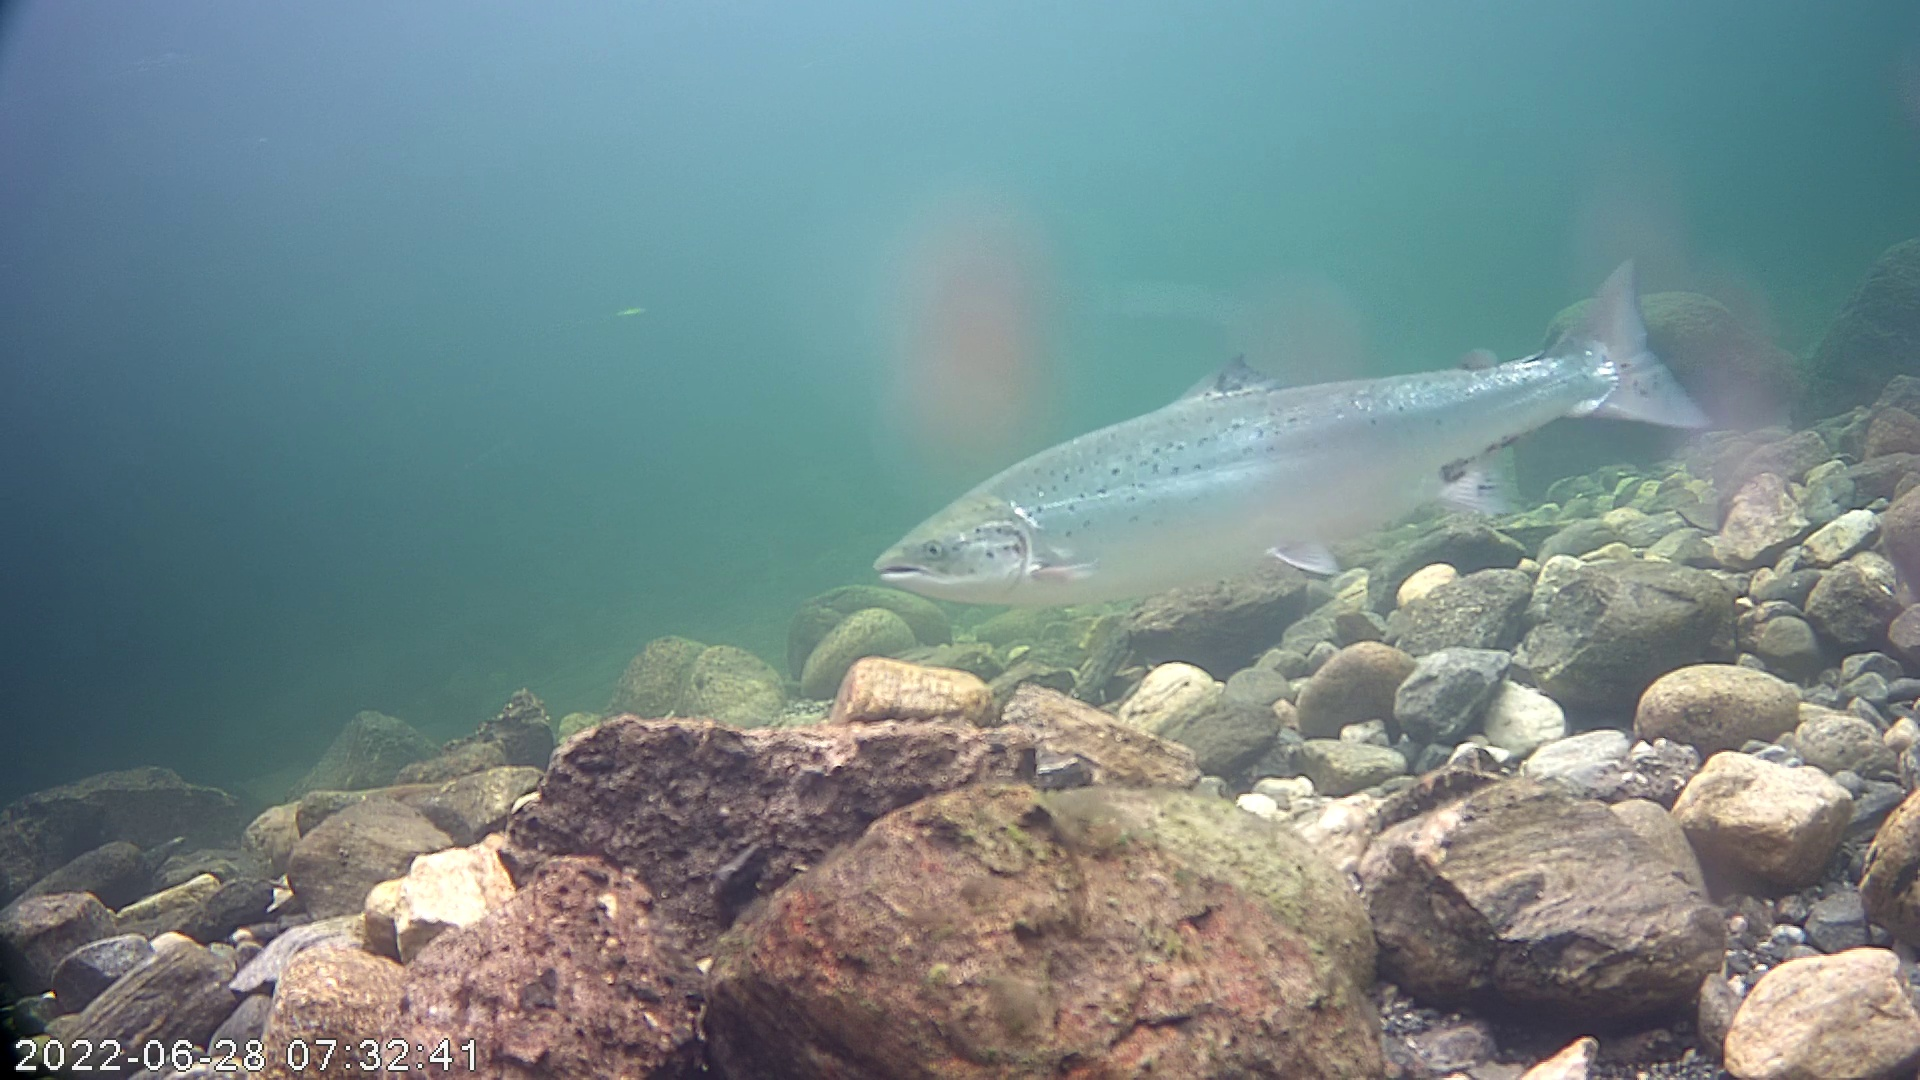salmon: (860, 208, 1724, 663)
